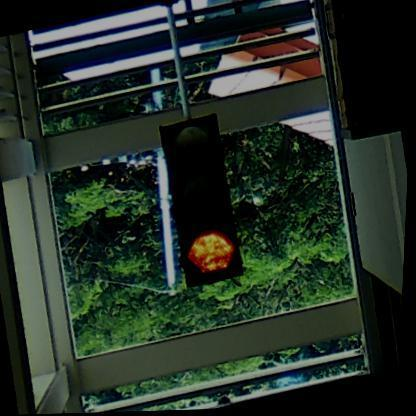red: (152, 114, 252, 292)
